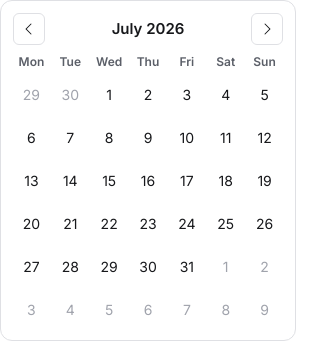
Test: CalendarGrid › navigates months from header buttons
Click the button named "Next month" at (267, 29), box [251,13,283,45]
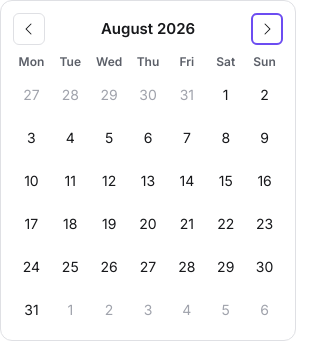
Expected: the heading "August 2026" is shown, [101,18,195,40]
